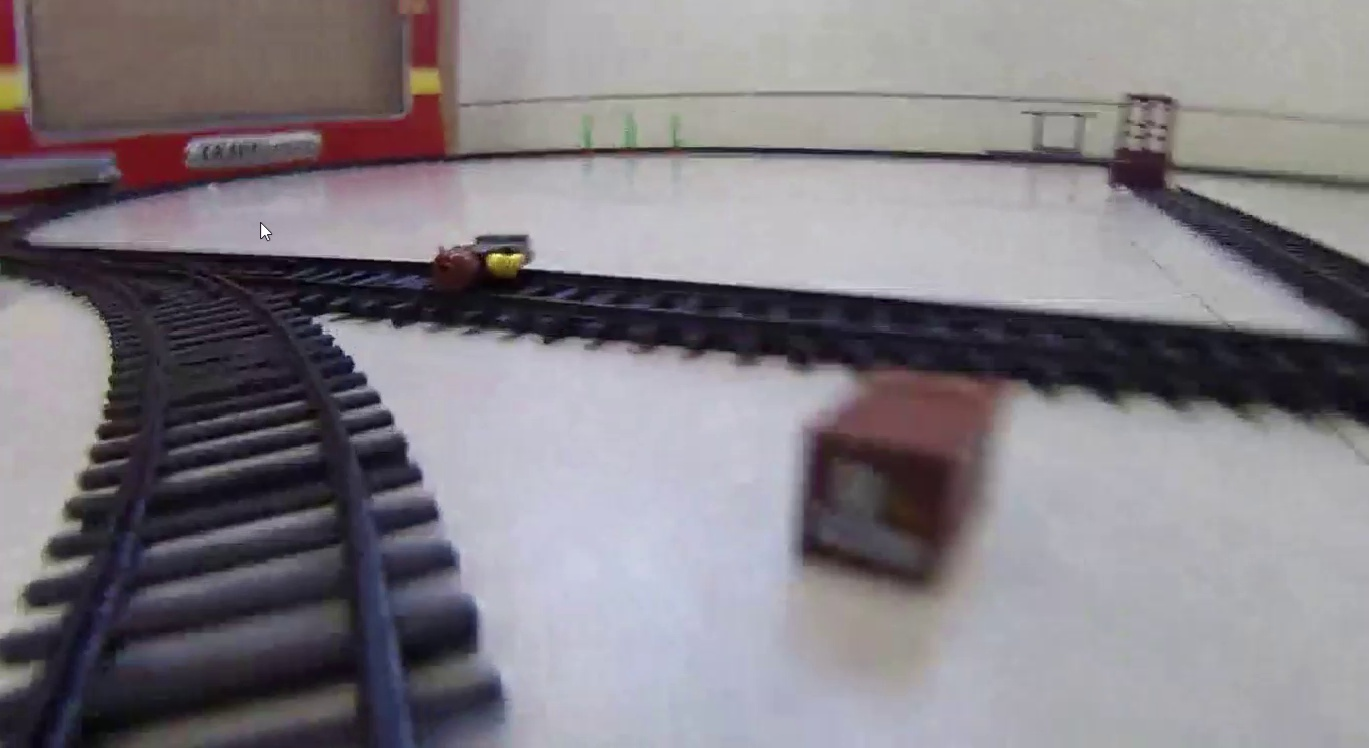box: (806, 362, 991, 586)
people: (433, 232, 529, 291)
